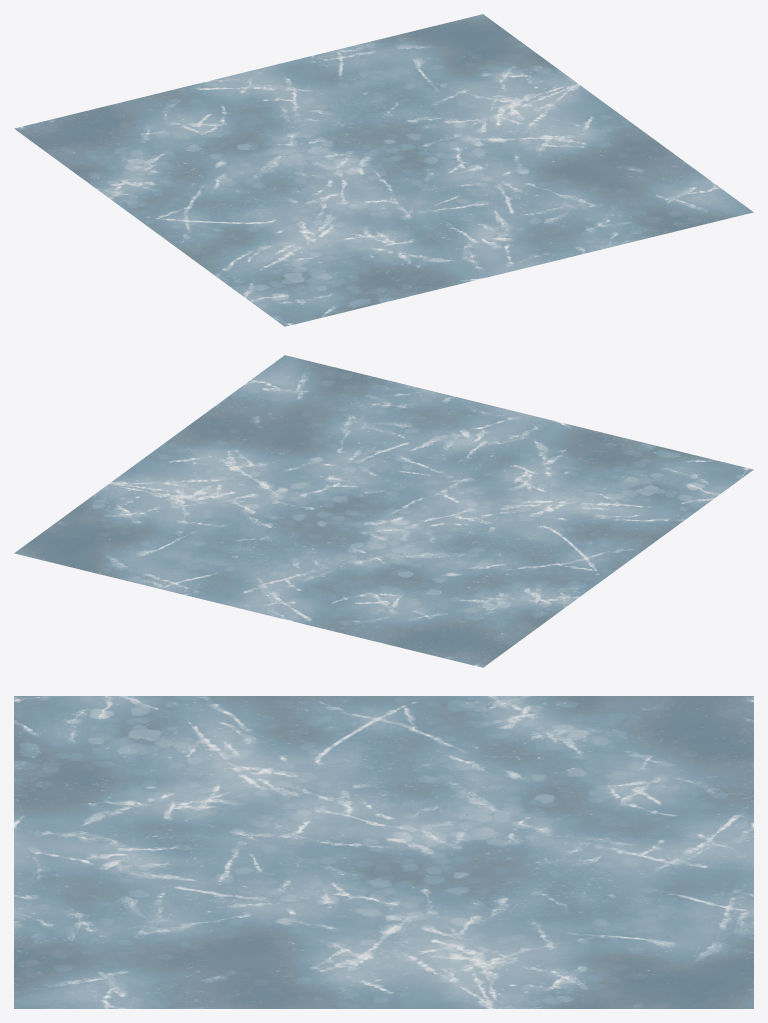
Rendered from ice_texture.glb.
3 renders of one model, top to bottom at view 1: azimuth 30°, elevation 25°; view 2: azimuth 150°, elevation 25°; view 3: azimuth 270°, elevation 25°, orthographic. The views are drawn at different scales.
Parts seen in each view (by area): view 1: pPlane1; view 2: pPlane1; view 3: pPlane1.
Boxes of the visible parts, x1,y1,x2,y2 form: pPlane1: (14, 14, 753, 326); pPlane1: (14, 355, 753, 667); pPlane1: (14, 696, 753, 1008).
Bounding box in the file's own units: 24 × 1.07e-14 × 24.
Materials: 1 (1 with a texture image).
